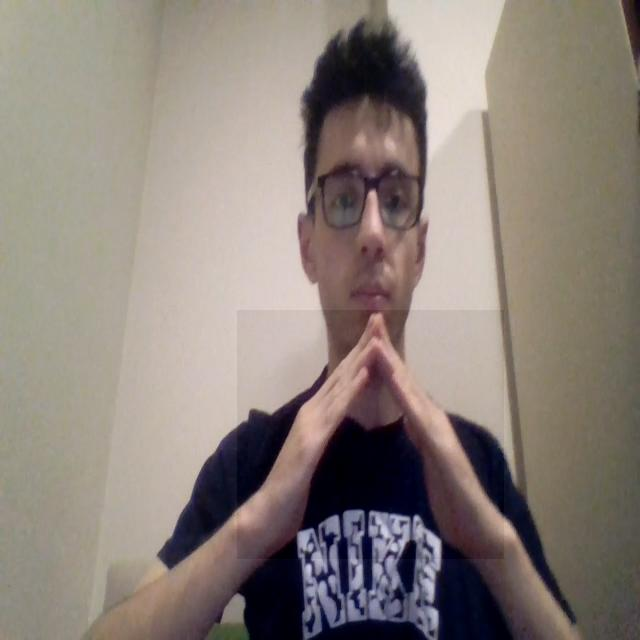house: (237, 310, 504, 559)
